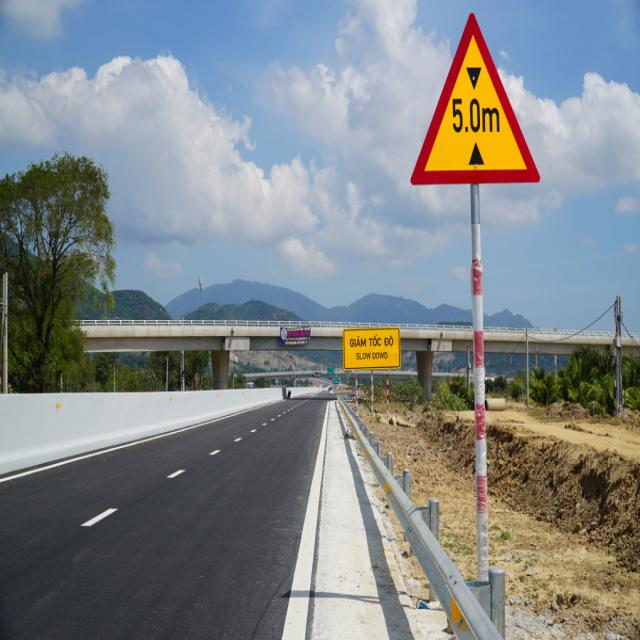Bien bao chieu cao tinh khong thuc te: (399, 4, 559, 194)
